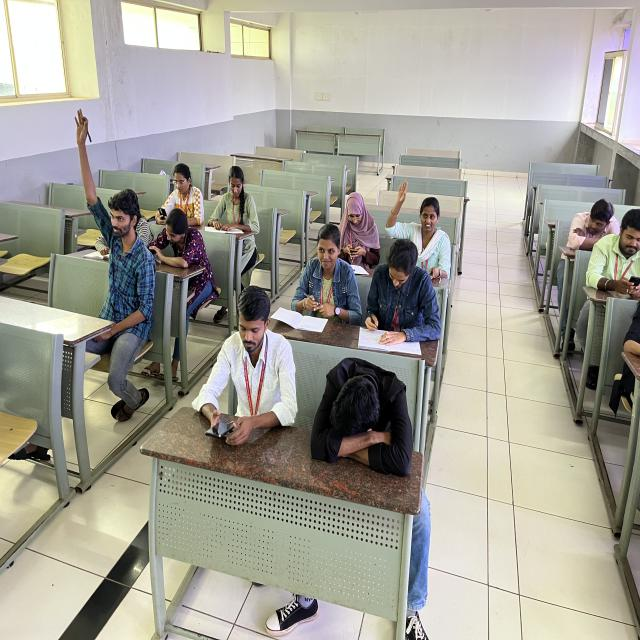Hand Rising: (69, 97, 164, 367), (381, 160, 451, 266)
Reading: (204, 148, 268, 262)
Sleeping: (316, 335, 419, 512)
Using Phone: (190, 265, 298, 456), (148, 147, 208, 235), (585, 206, 640, 300), (332, 177, 386, 265)
Writing: (362, 235, 435, 358), (276, 210, 352, 328)
